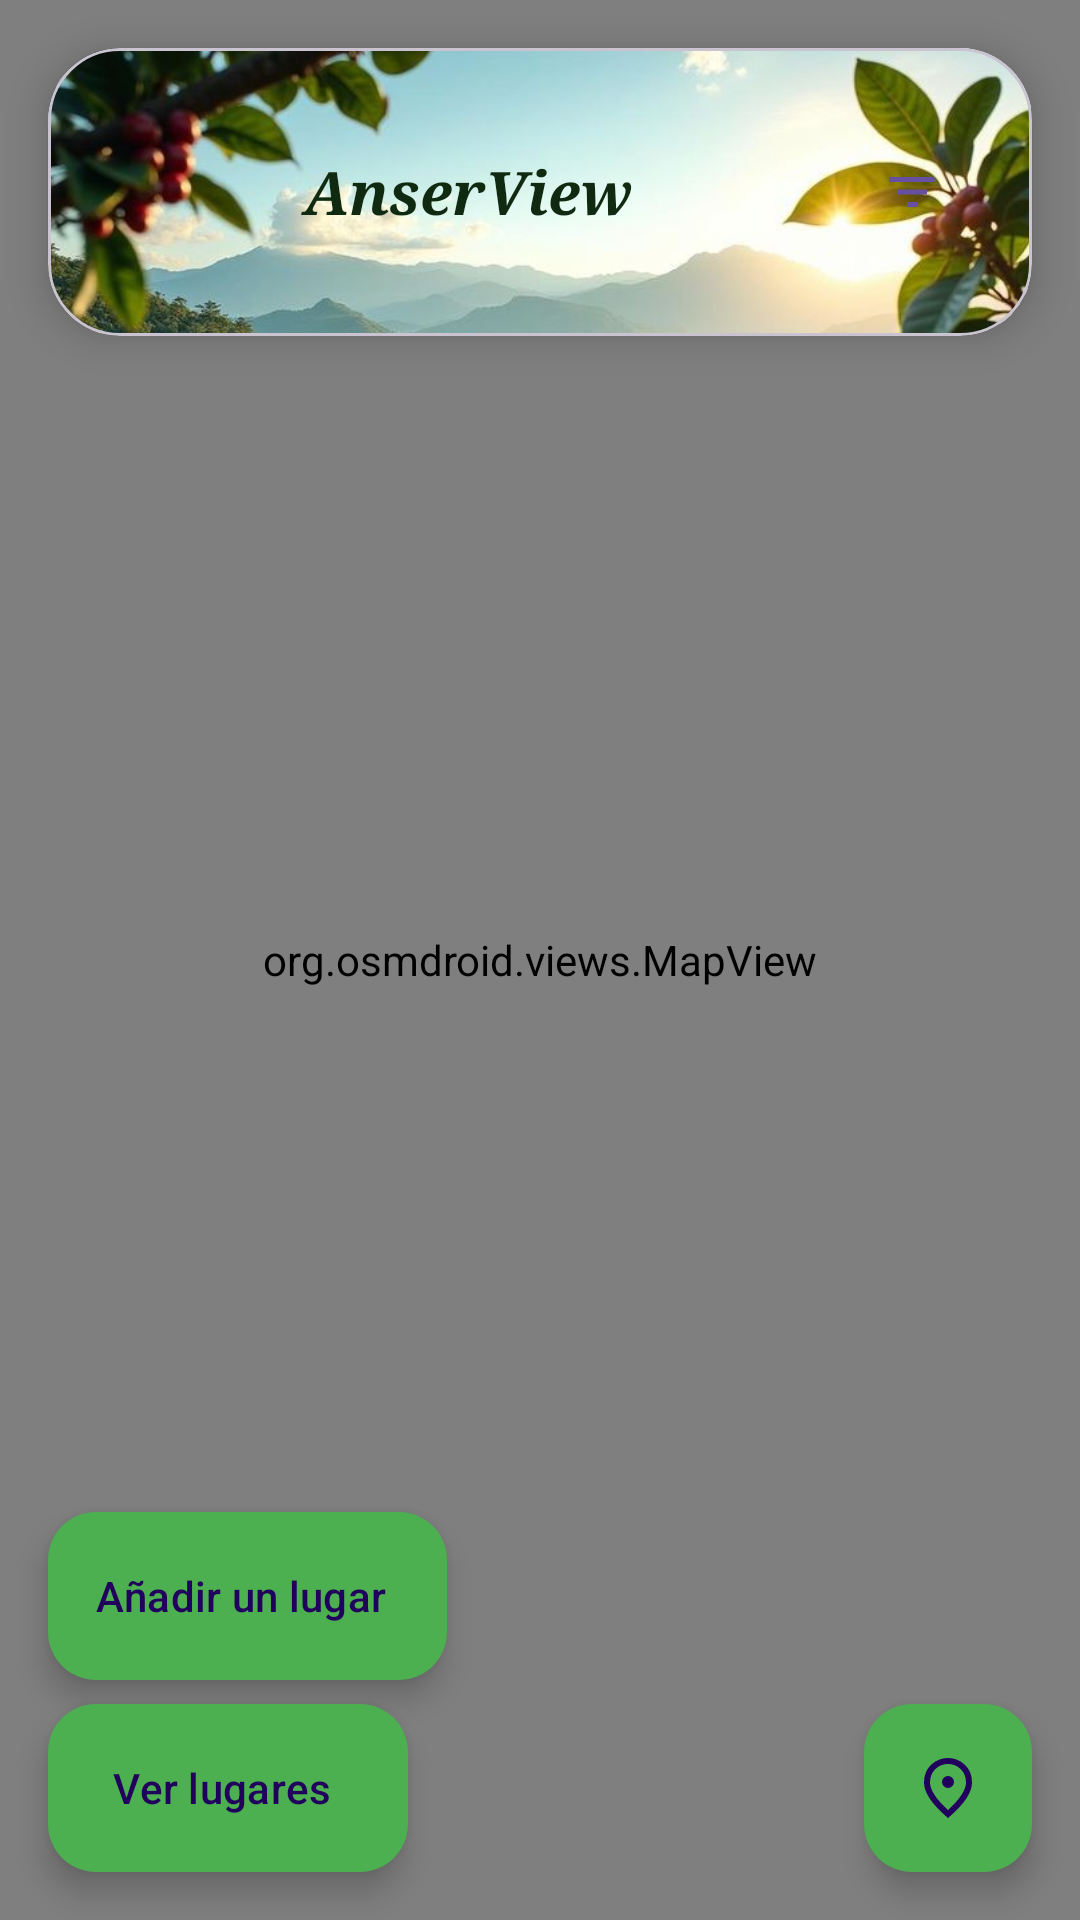

Point at icon controls on the screen. Image size 1080×1920, points as point (x, y).
Mi ubicación: point (948, 1788)
